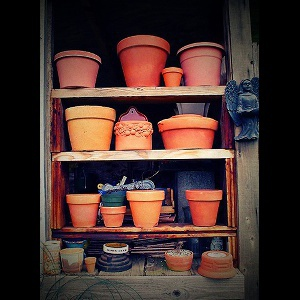flowerpot: (115, 35, 171, 92), (62, 104, 119, 152), (158, 111, 219, 149), (176, 41, 224, 87), (54, 48, 102, 88), (125, 185, 165, 227), (183, 188, 224, 225), (65, 192, 101, 228), (113, 117, 153, 149), (97, 241, 134, 273), (199, 250, 235, 280), (58, 246, 84, 272), (96, 204, 126, 226), (164, 248, 194, 269), (160, 66, 184, 86), (81, 254, 97, 270)
